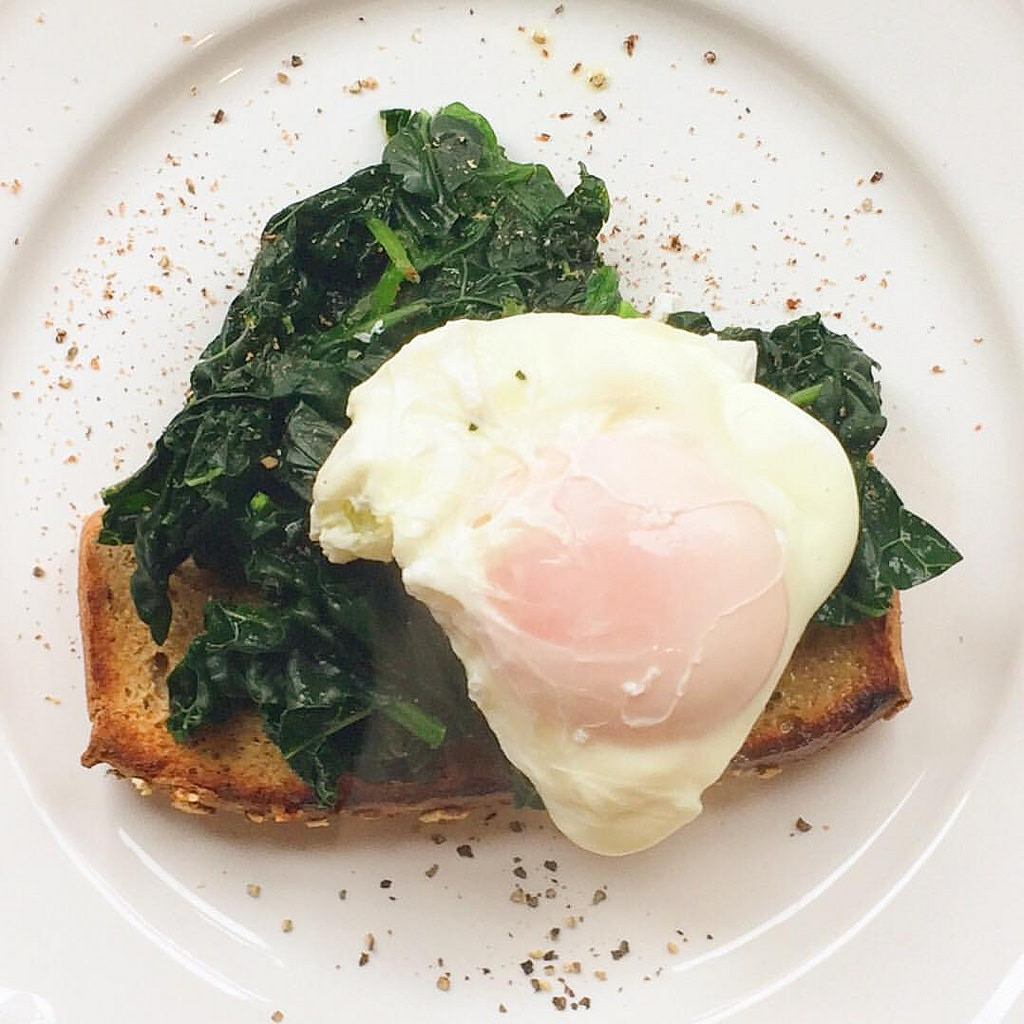chopped lettuce: (242, 299, 347, 763)
fried egg: (363, 322, 834, 855)
